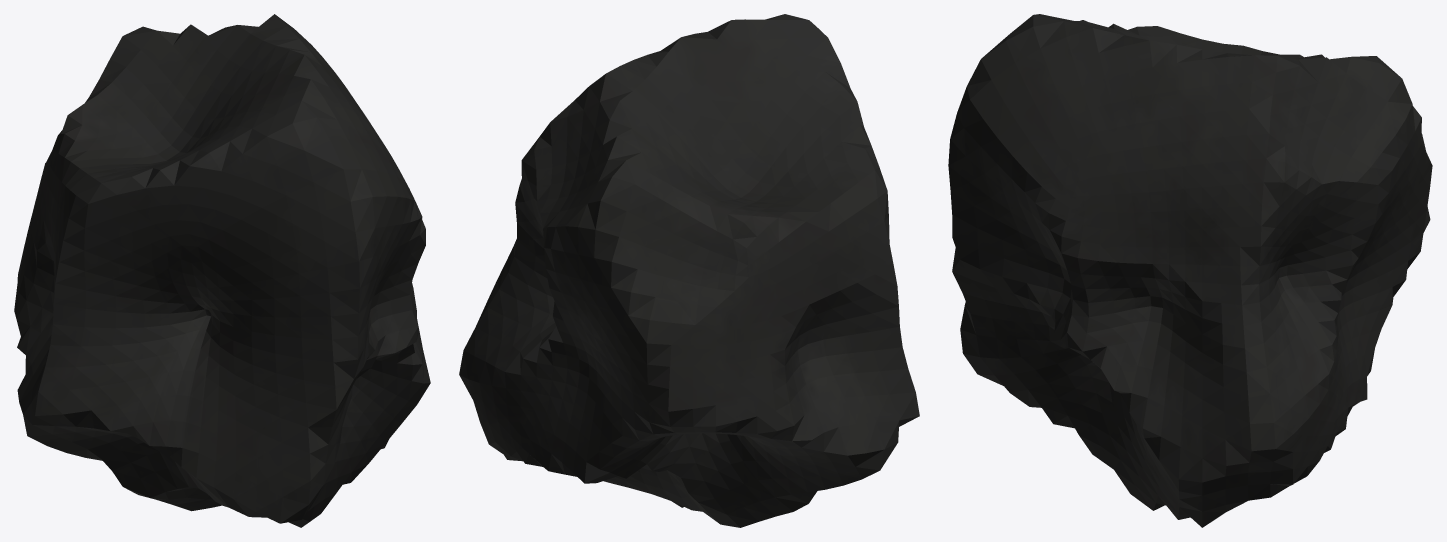
Rendered from rocks-black_1.fbx.
3 renders of one model, left to right at view 1: azimuth 30°, elevation 25°; view 2: azimuth 150°, elevation 25°; view 3: azimuth 270°, elevation 25°, orthographic.
Visible parts, largest first — view 1: Cube.025; view 2: Cube.025; view 3: Cube.025.
Boxes of the visible parts, x1,y1,x2,y2 form: Cube.025: (14, 14, 430, 527); Cube.025: (459, 14, 919, 527); Cube.025: (948, 14, 1432, 527).
Size of the model in its own units: 177 by 192 by 178.
